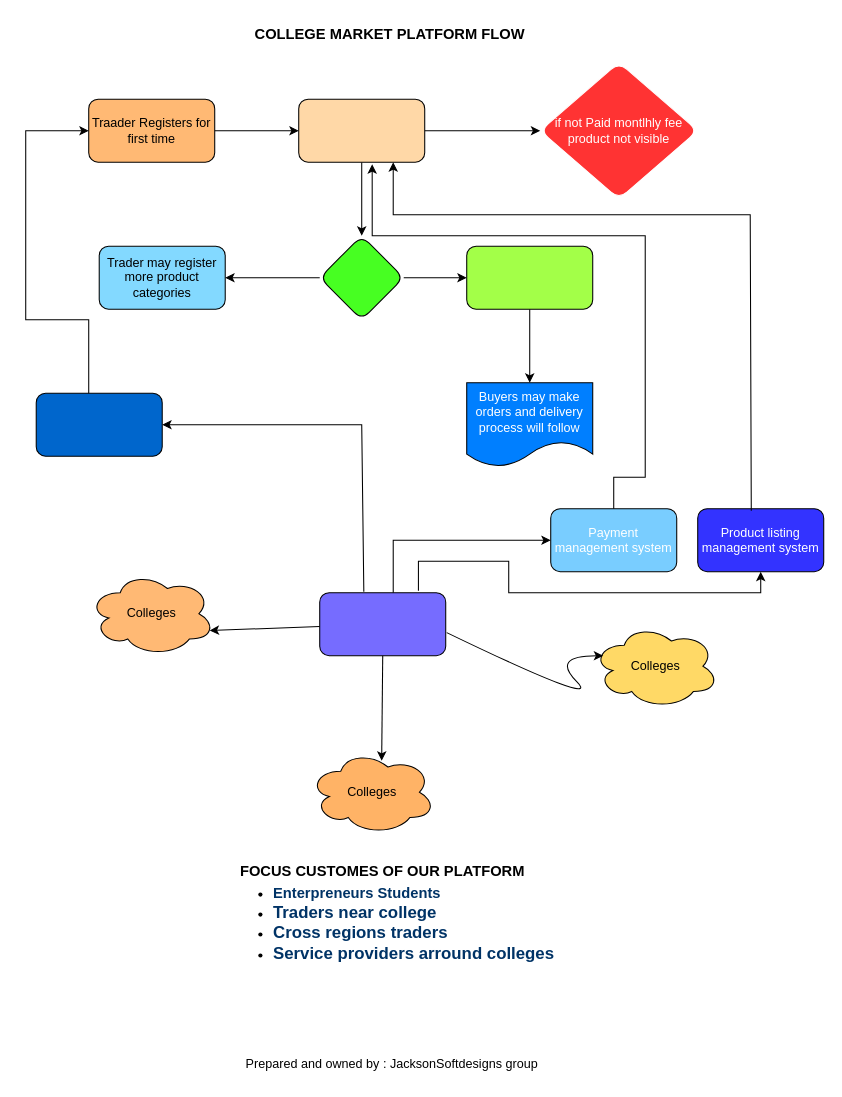
The diagram is 842 pixels wide and 1097 high, and some of its shapes have lost their labels. Here are the shapes that lost their labels. From the top down, the centre of each, then its label:
[361,130]: Trader Login and pay monthly fee
[361,277]: If paid
[529,277]: Products listed and buyers can view them
[98,424]: Trader management System
[382,624]: Platform central management system
